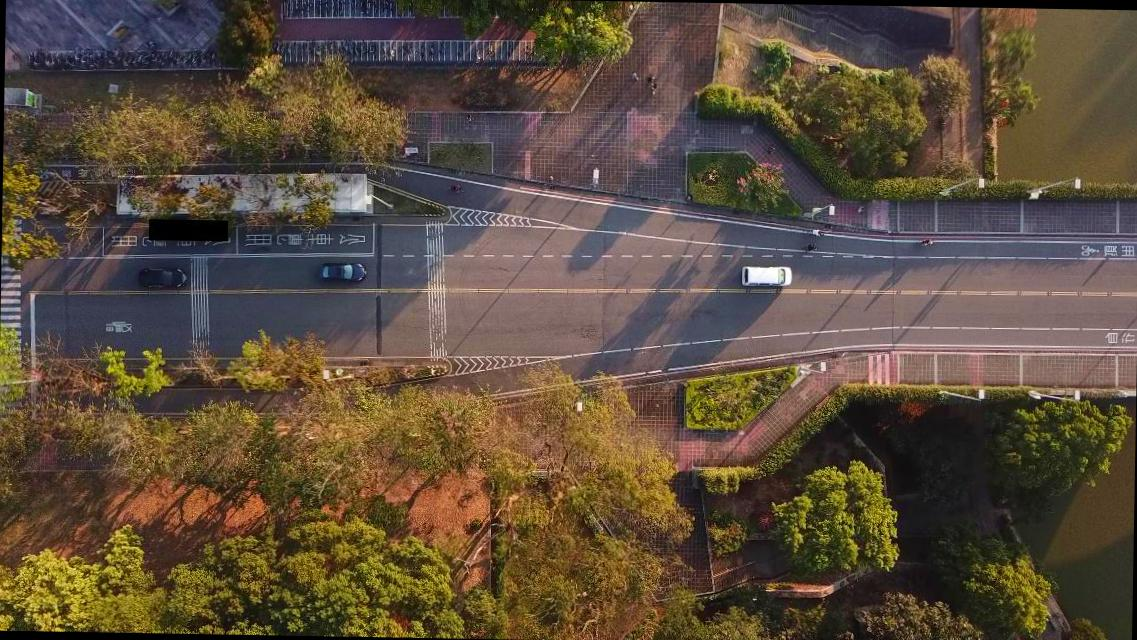vehicle: (742, 265, 792, 287), (136, 268, 186, 288), (317, 262, 366, 282)
